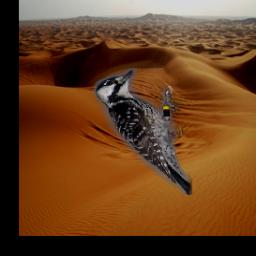Woodpecker: (95, 69, 193, 196)
